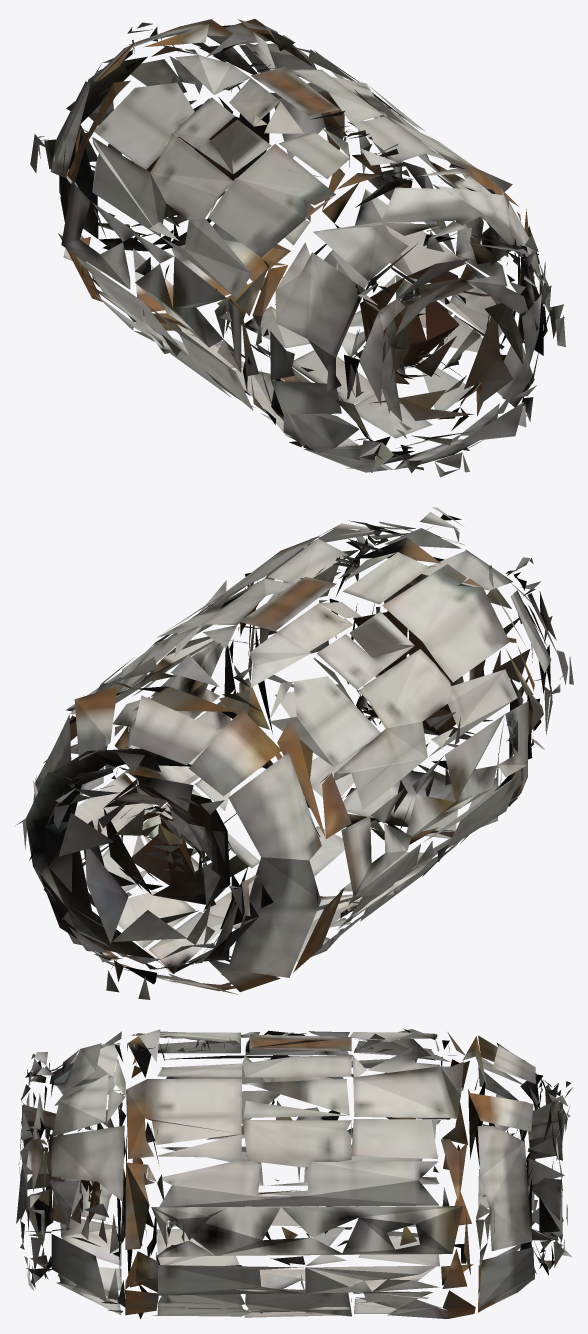
File: module-habitation-bas.glb
The picture shows the model from 3 angles, top to bottom: view 1: azimuth 30°, elevation 25°; view 2: azimuth 150°, elevation 25°; view 3: azimuth 270°, elevation 25°; orthographic projection. The views are drawn at different scales.
Parts seen in each view (by area): view 1: module-habitation-bas; view 2: module-habitation-bas; view 3: module-habitation-bas.
Part boxes in pixels (x1,y1,x2,y2): module-habitation-bas: (30, 18, 565, 477); module-habitation-bas: (15, 507, 573, 999); module-habitation-bas: (16, 1028, 572, 1318).
Bounding box in the file's own units: 4.53 × 4.28 × 8.
Materials: 1 (1 with a texture image).
